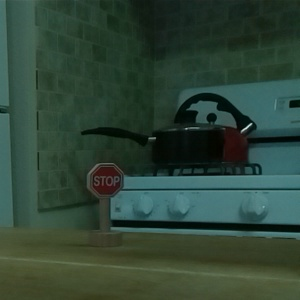stop sign: (83, 160, 127, 250)
